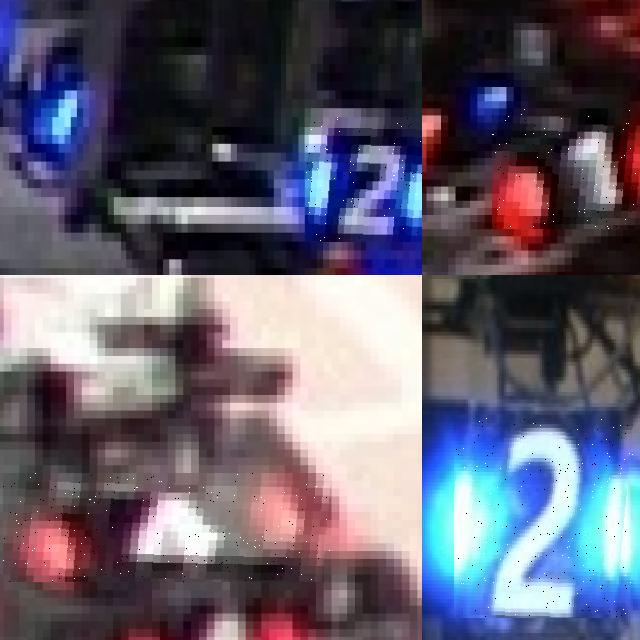B2: (454, 418, 633, 618), (304, 117, 422, 241)
R1: (492, 108, 640, 229)
R4: (4, 473, 332, 582), (89, 590, 308, 640)
